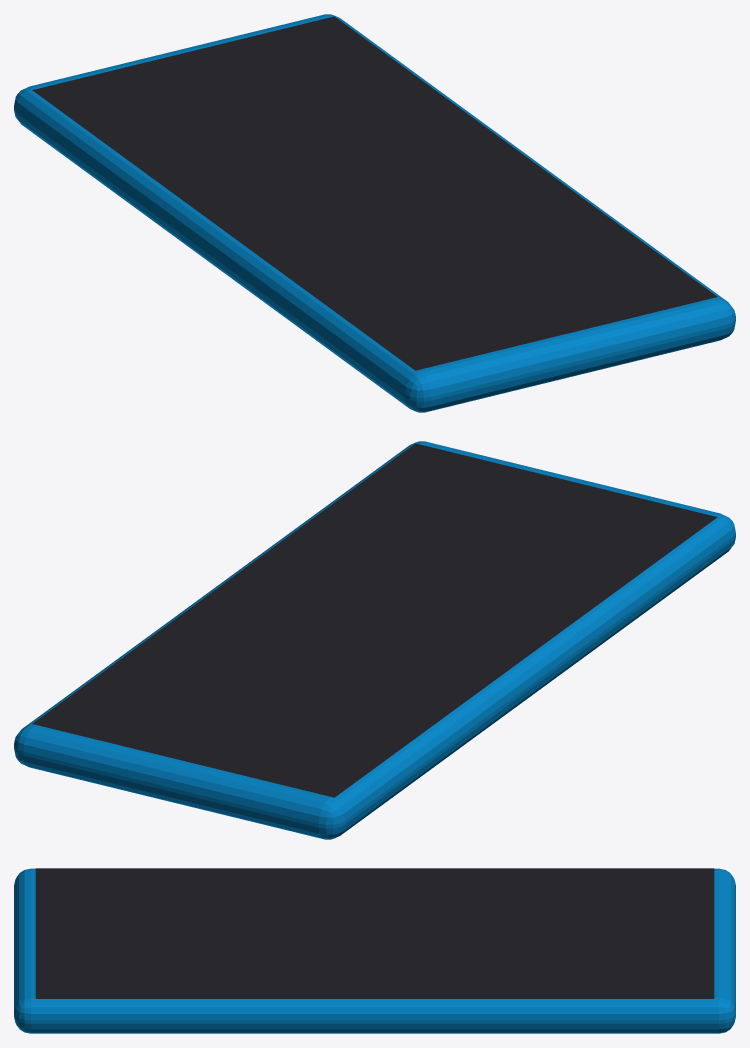
Rendered from oppo-f-model-332-mid-range-2023.glb.
3 renders of one model, top to bottom at view 1: azimuth 30°, elevation 25°; view 2: azimuth 150°, elevation 25°; view 3: azimuth 270°, elevation 25°, orthographic. The views are drawn at different scales.
Parts seen in each view (by area): view 1: Phone_Screen, Phone_Body; view 2: Phone_Screen, Phone_Body; view 3: Phone_Screen, Phone_Body.
Part boxes in pixels (x1,y1,x2,y2): Phone_Screen: [32, 16, 717, 370]; Phone_Body: [14, 14, 735, 412]; Phone_Screen: [32, 443, 717, 797]; Phone_Body: [14, 441, 735, 839]; Phone_Screen: [35, 868, 714, 998]; Phone_Body: [14, 868, 735, 1033].
Bounding box in the file's own units: 0.0725 × 0.0083 × 0.1558.
